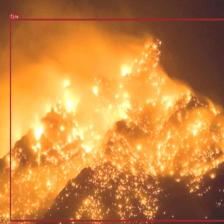fire: (9, 18, 224, 221)
